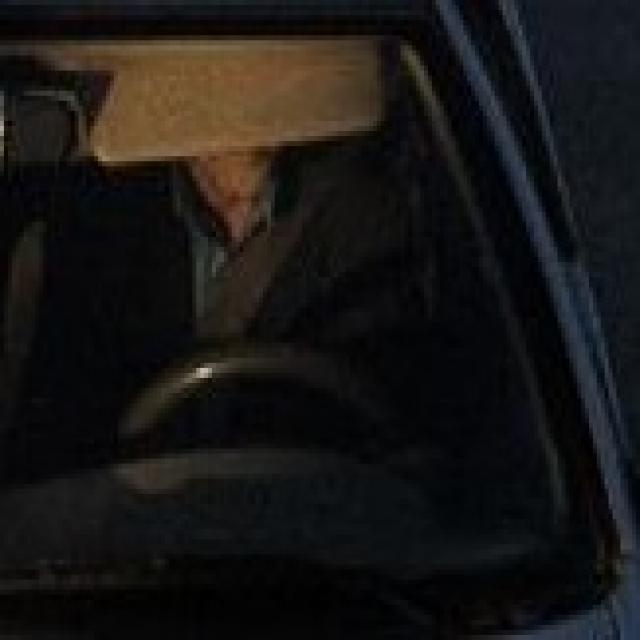seatbelt: (263, 116, 408, 338)
